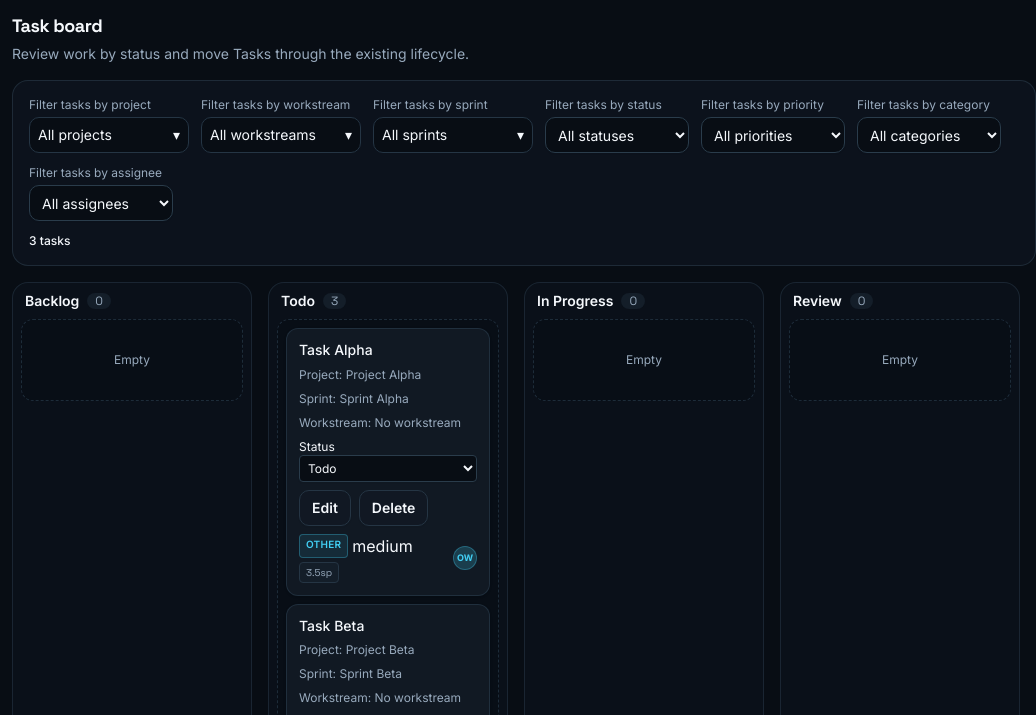
Projects UI with a mocked backend › labels task cards by sprint and combines sprint and project filters
The image size is (1036, 715).
Expected: the text "Sprint: Sprint Alpha" is shown, 299,390 -> 409,406
Expected: the text "Sprint: Sprint Beta" is shown, 299,666 -> 402,681
Click the button with aria-label "Filter tasks by sprint": (453, 135) 373,117 -> 533,153
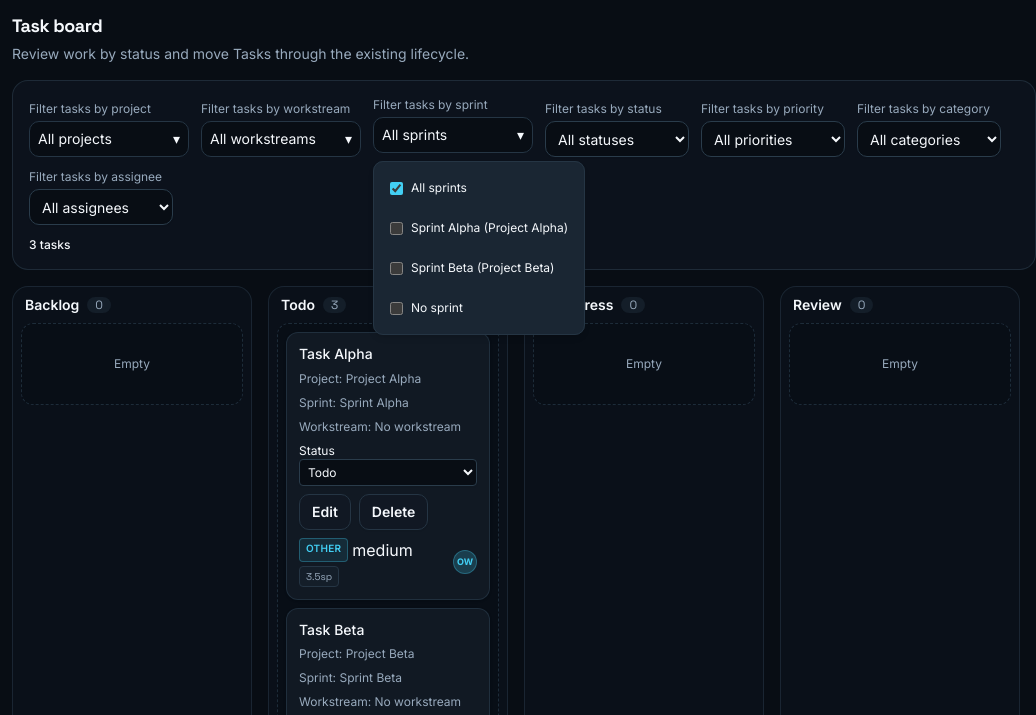
Expected: the checkbox labelled "All sprints" is checked, 390,182 -> 403,194
Expected: the checkbox labelled "Sprint Alpha (Project Alpha)" is not checked
Expected: the checkbox labelled "No sprint" is not checked, 390,302 -> 403,314
Click the checkbox labelled "Sprint Alpha (Project Alpha)": (396, 228) 390,222 -> 403,234
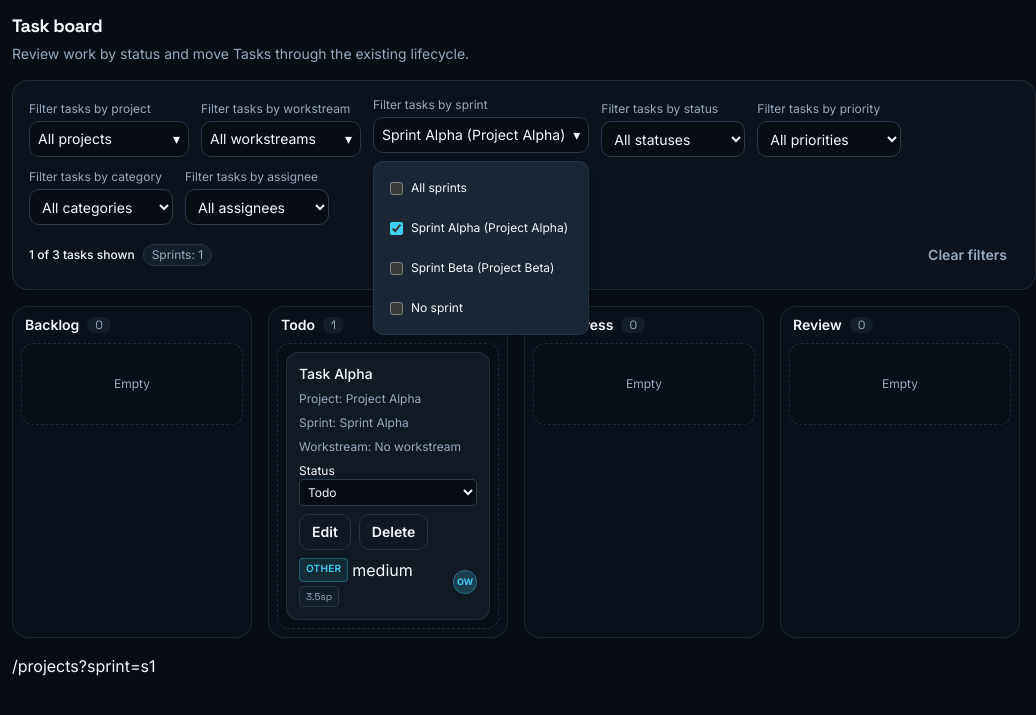
Expected: the text "Task Alpha" is shown, 299,365 -> 373,382
Expected: the checkbox labelled "All sprints" is not checked, 390,182 -> 403,194
Expected: the text "Task Beta" is gone
Click the checkbox labelled "No sprint": (396, 308) 390,302 -> 403,314
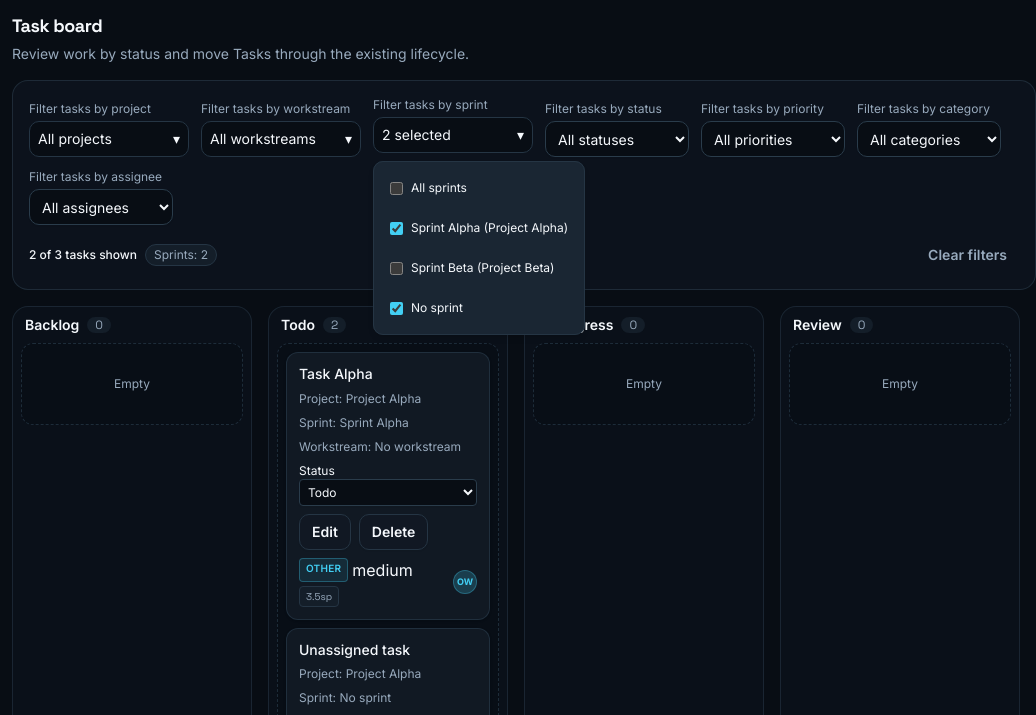
Expected: the text "Task Alpha" is shown, 299,365 -> 373,382
Expected: the text "Unassigned task" is shown, 299,640 -> 410,658
Click the button with aria-label "Filter tasks by project": (109, 139) 29,121 -> 189,157
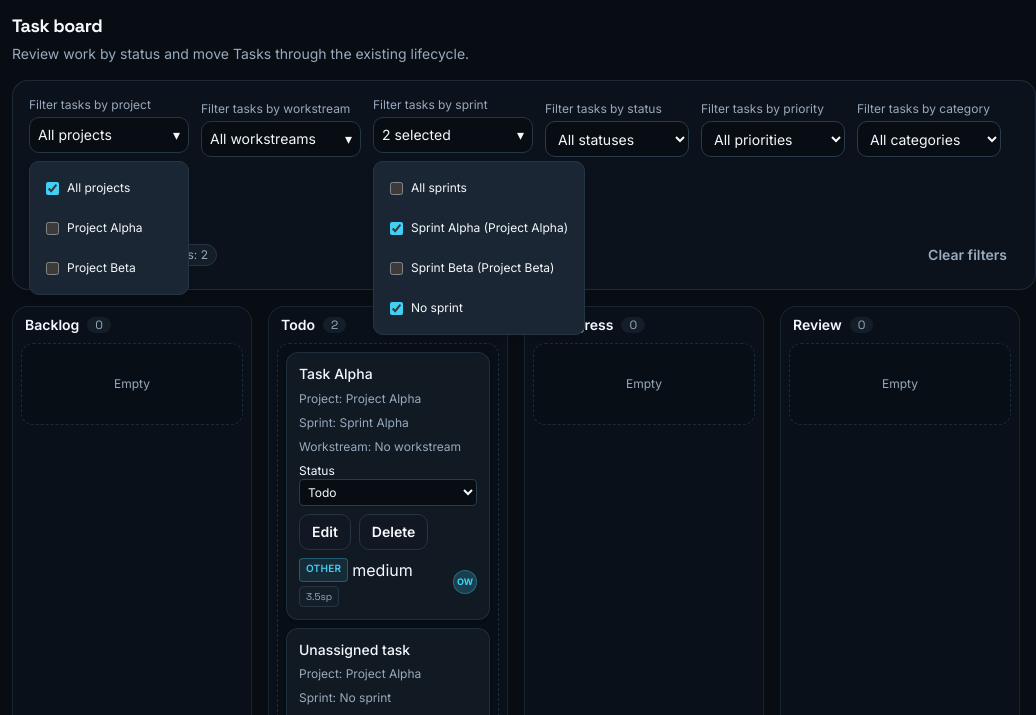
Click the checkbox labelled "Project Beta": (52, 268) 46,262 -> 59,274
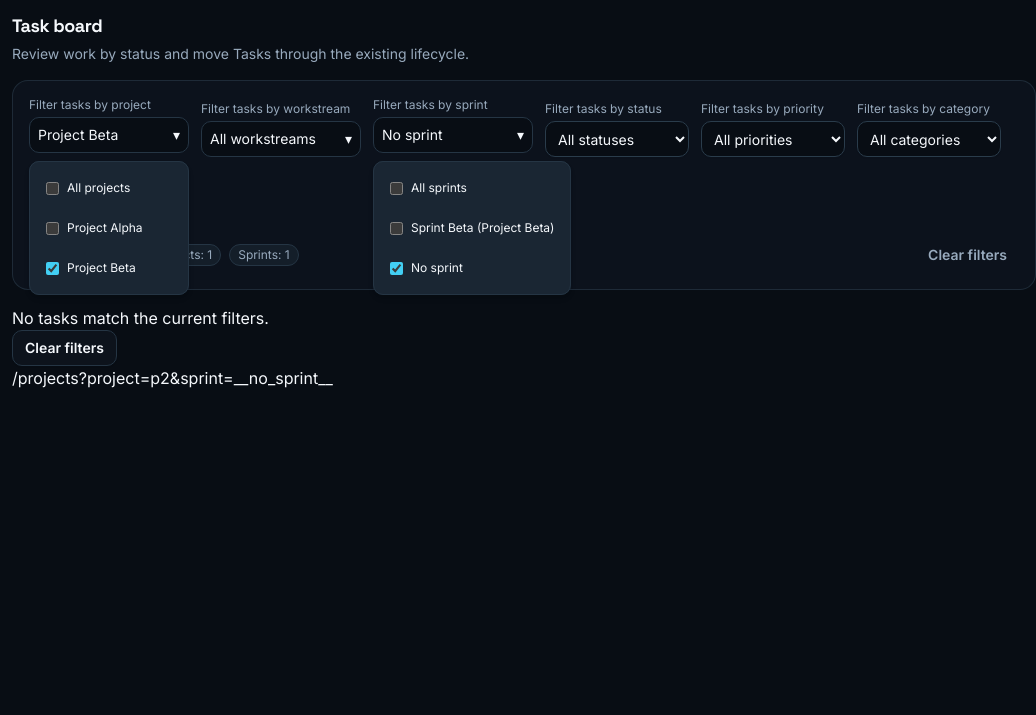
Expected: the text "Task Beta" is not shown
Expected: the text named "Current location" does not show "sprint=s1", 12,368 -> 333,388
Expected: the label "Sprint Alpha (Project Alpha)" is gone
Click the checkbox labelled "All sprints": (396, 188) 390,182 -> 403,194
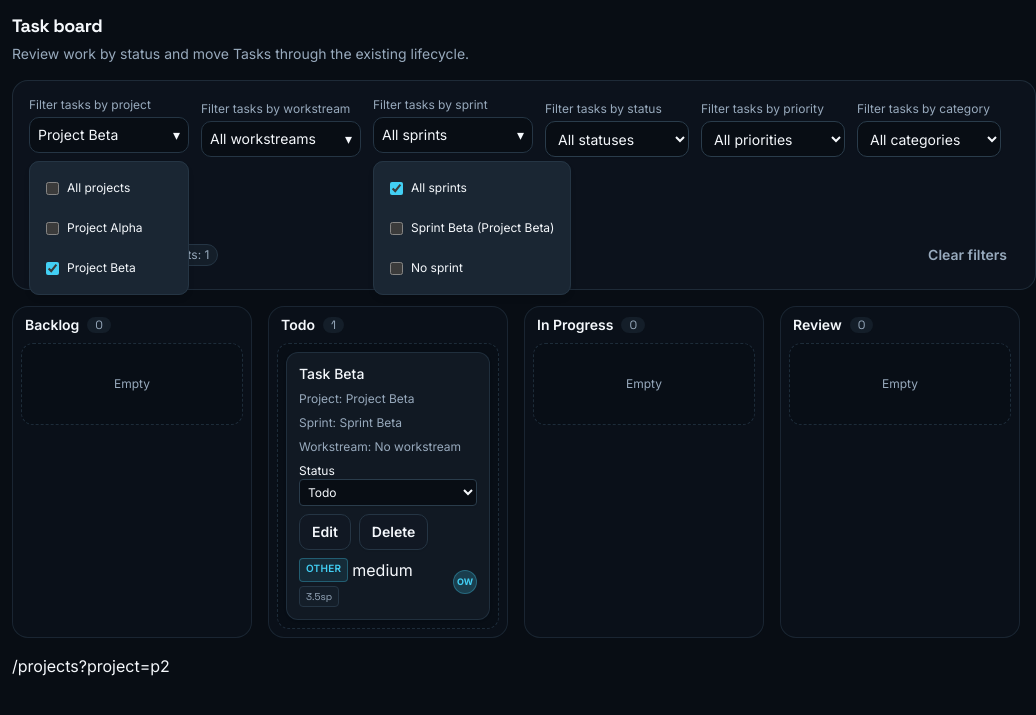
Expected: the text "Task Alpha" is not shown
Expected: the checkbox labelled "All sprints" is checked, 390,182 -> 403,194
Expected: the text "Task Beta" is shown, 299,365 -> 364,382
